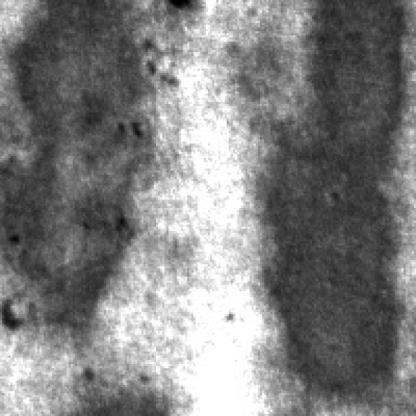patches: (267, 0, 412, 391), (2, 0, 142, 324)
